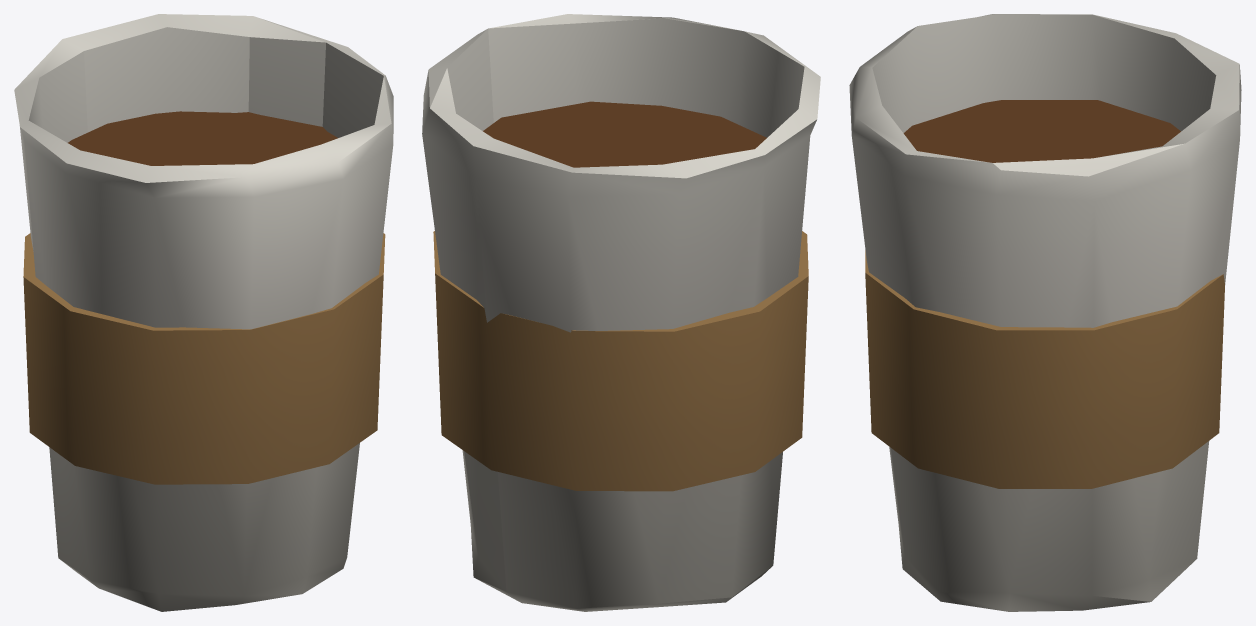
Rendered from 30_gobelet.fbx.
3 views of the same model, side by side, from view 1: azimuth 30°, elevation 25°; view 2: azimuth 150°, elevation 25°; view 3: azimuth 270°, elevation 25° (orthographic). The views are drawn at different scales.
Visible parts, largest first — view 1: Gobelet; view 2: Gobelet; view 3: Gobelet.
Part boxes in pixels (x1,y1,x2,y2): Gobelet: (14,14,393,611); Gobelet: (422,14,820,611); Gobelet: (849,14,1241,611).
Size of the model in its own units: 0.084 by 0.112 by 0.084.
Materials: 1 (1 with a texture image).
